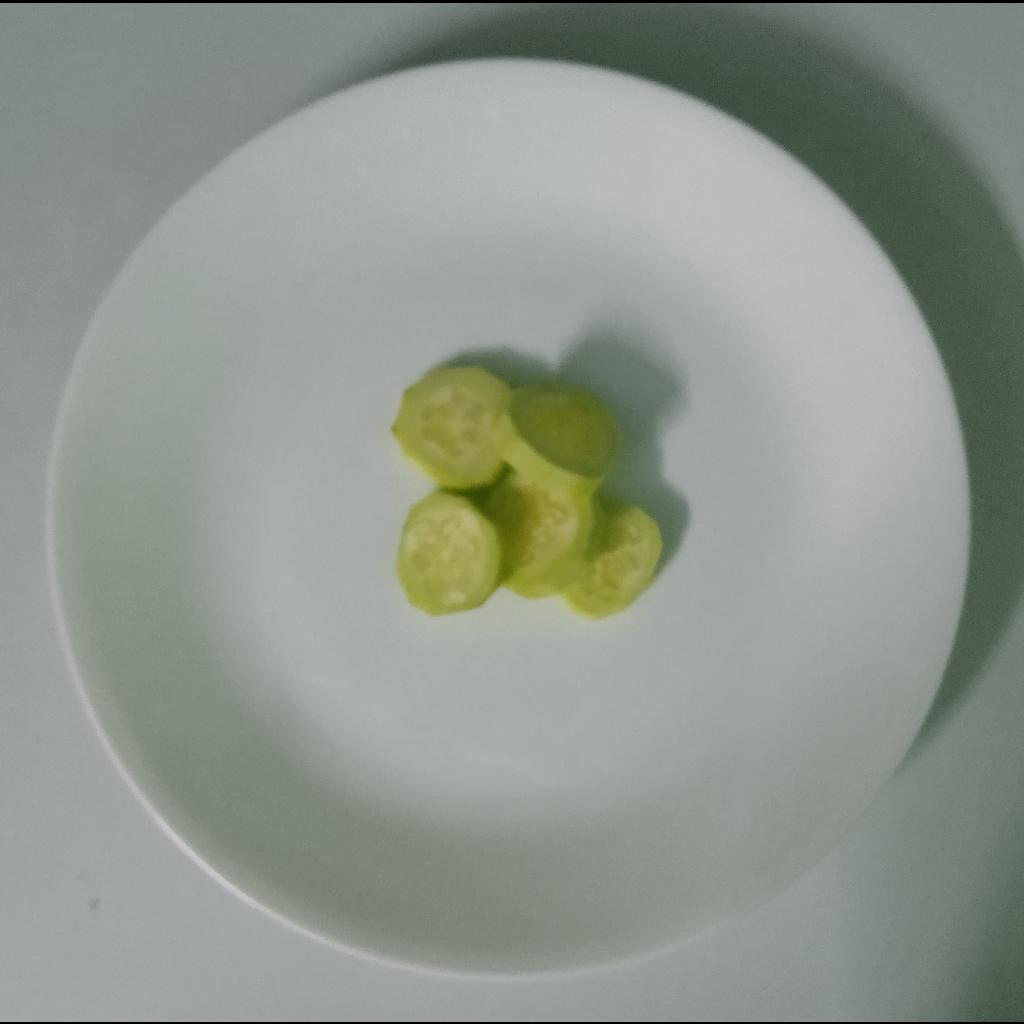cucumber: (390, 364, 665, 622)
